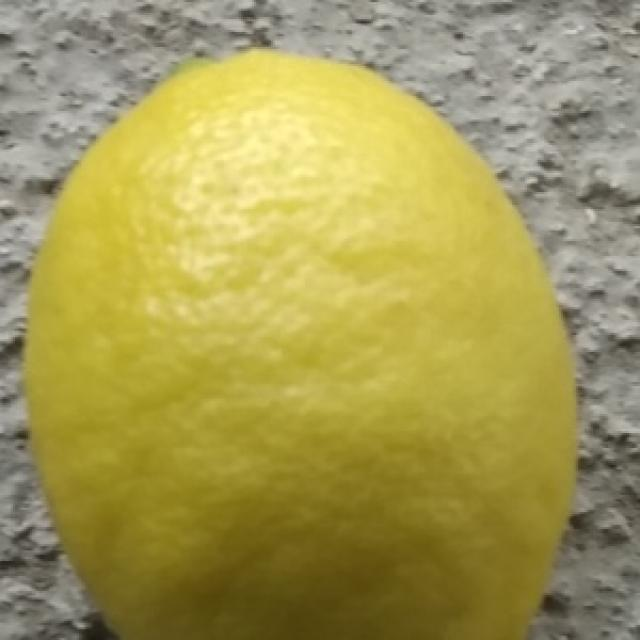Lemon: (23, 51, 581, 640)
